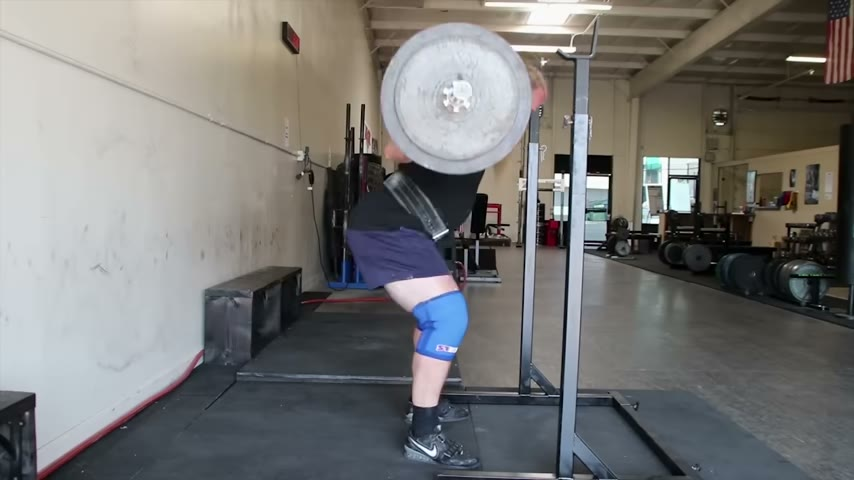barbell_plate_side: (476, 23, 549, 180)
